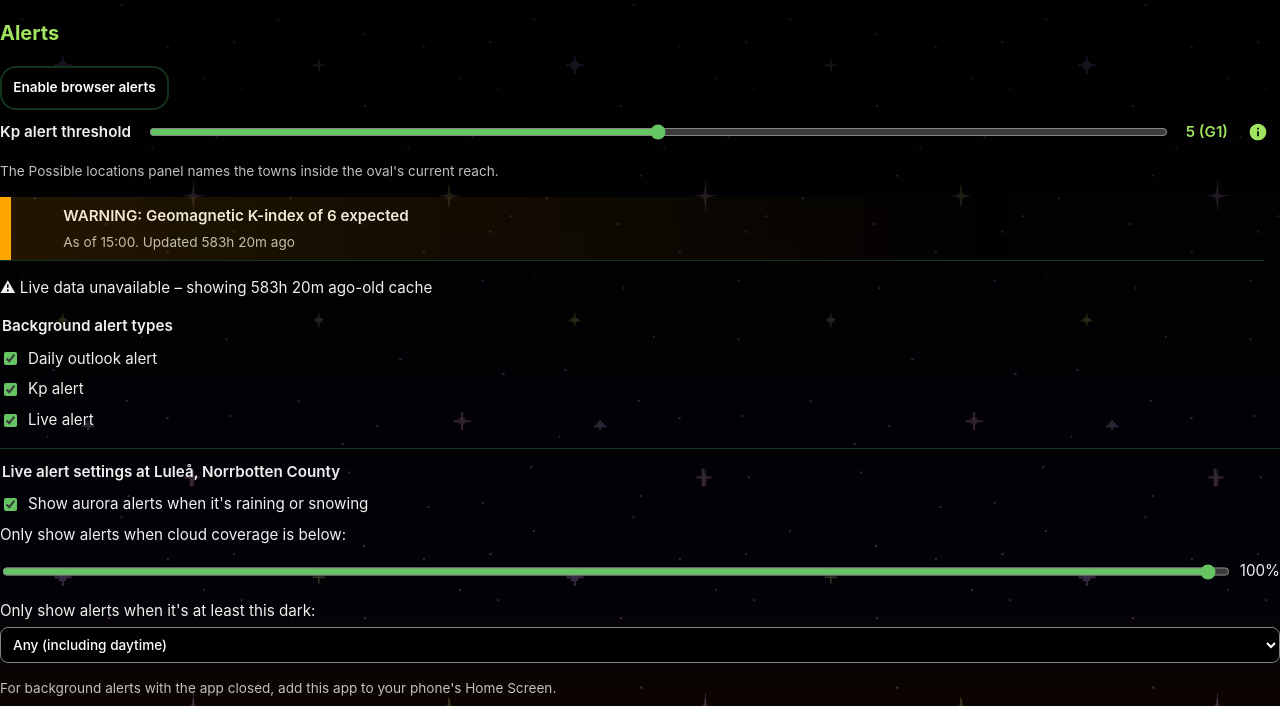
Test: alert settings UI (ticket 06) › speaks honestly when background alerts fail after permission
The width and height of the screenshot is (1280, 706).
Step 1. Click the button "Enable browser alerts" → [84, 88], box [0,66,169,110]
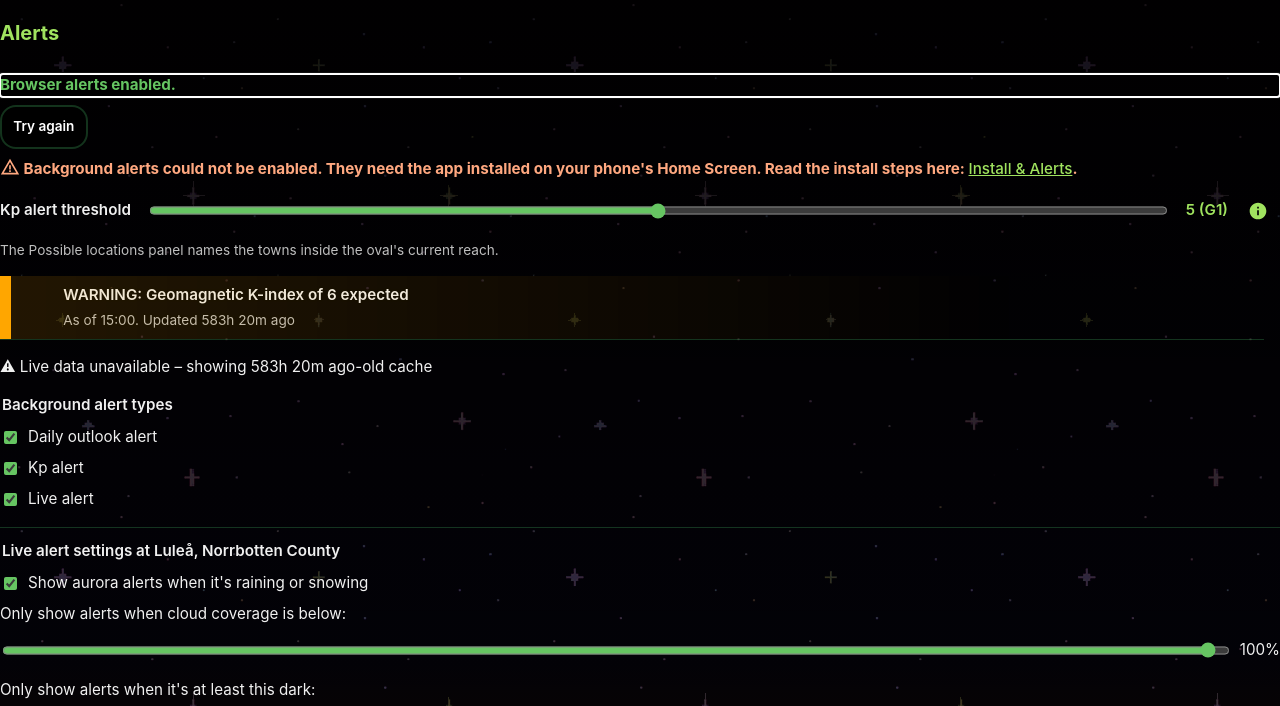
Now the text "Background alerts could not be enabled" is shown, box [24,159,965,178]
Step 2. Click the button "Try again" → [44, 127], box [0,105,88,149]
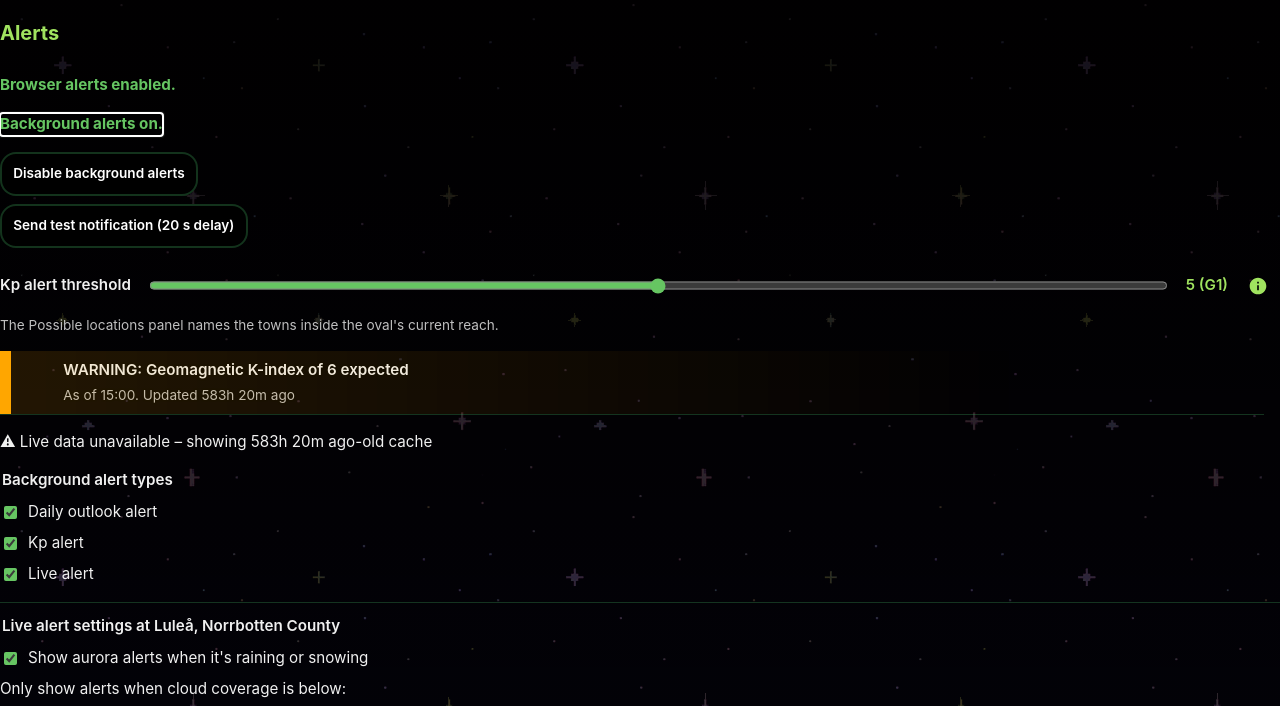
Now the text "Background alerts could not be enabled" is gone
